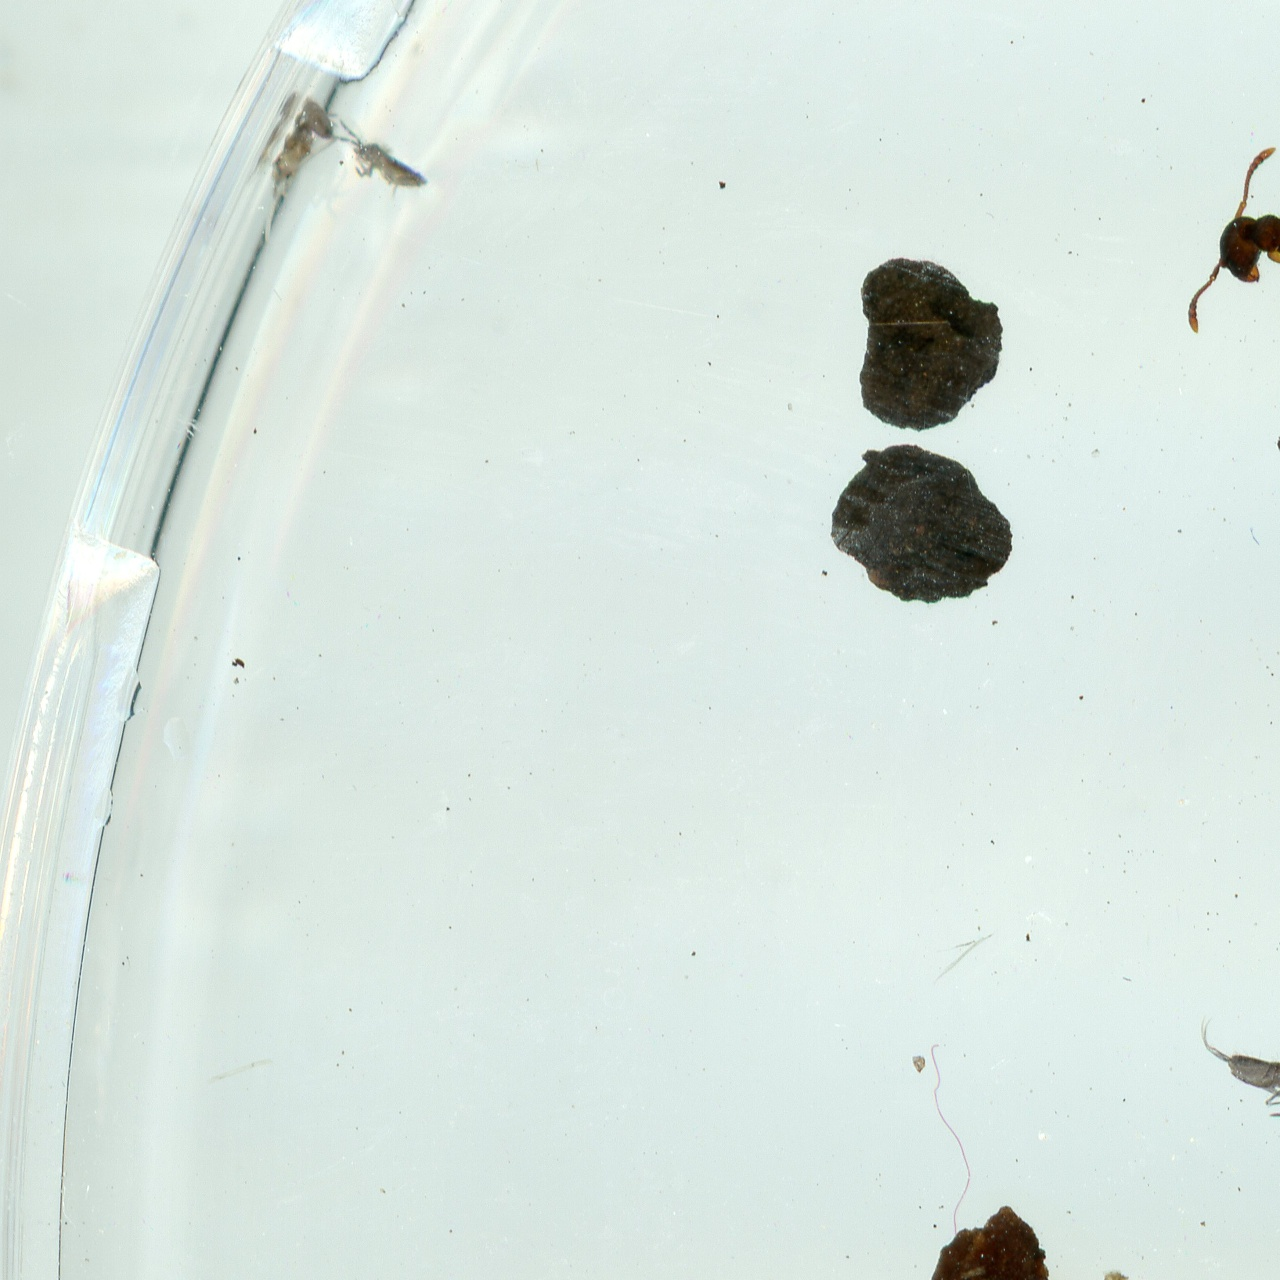arthropod: (1139, 129, 1280, 425), (308, 111, 450, 218), (1192, 1014, 1280, 1123)
